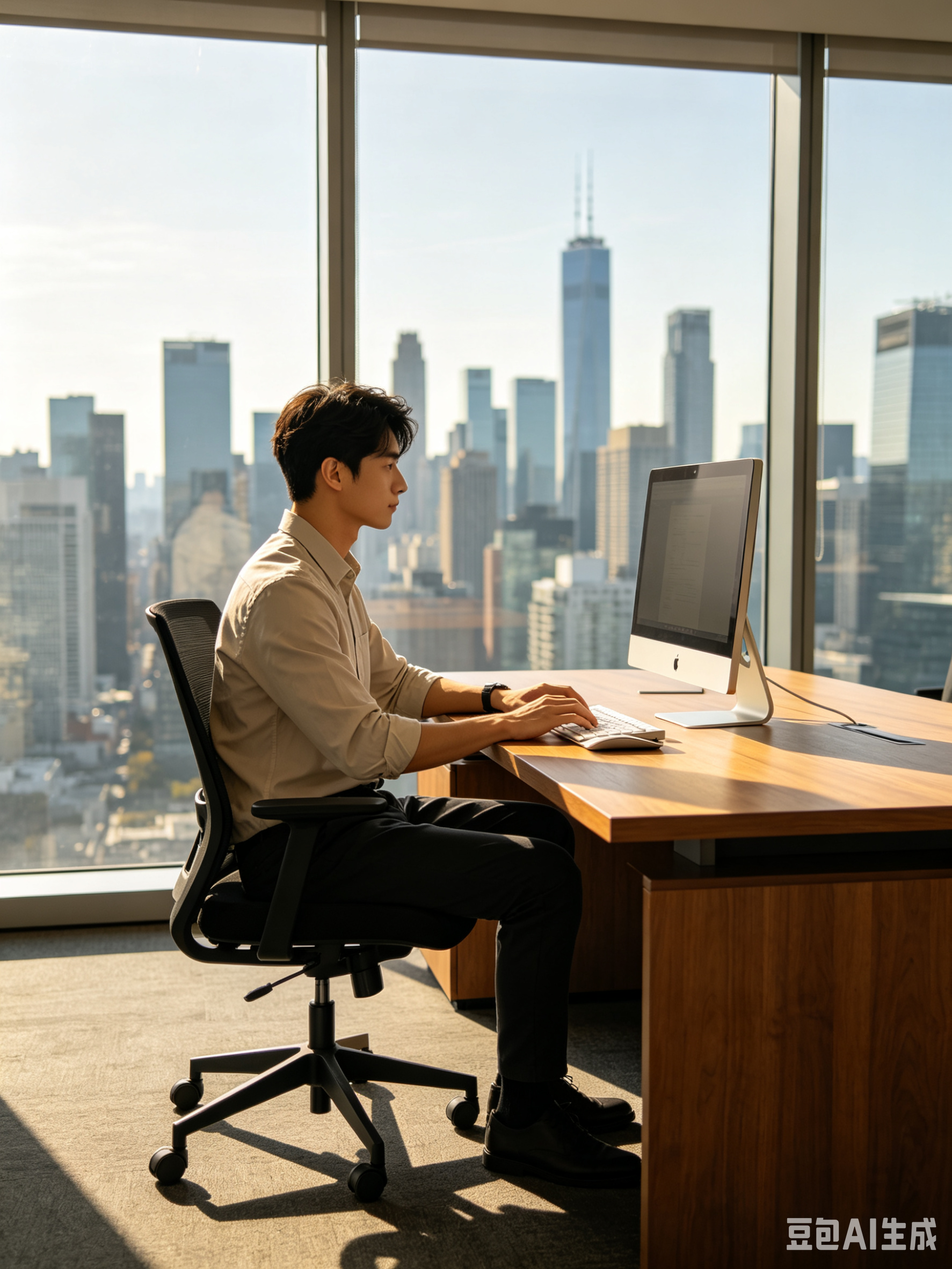sitting_good: (203, 401, 657, 1146)
